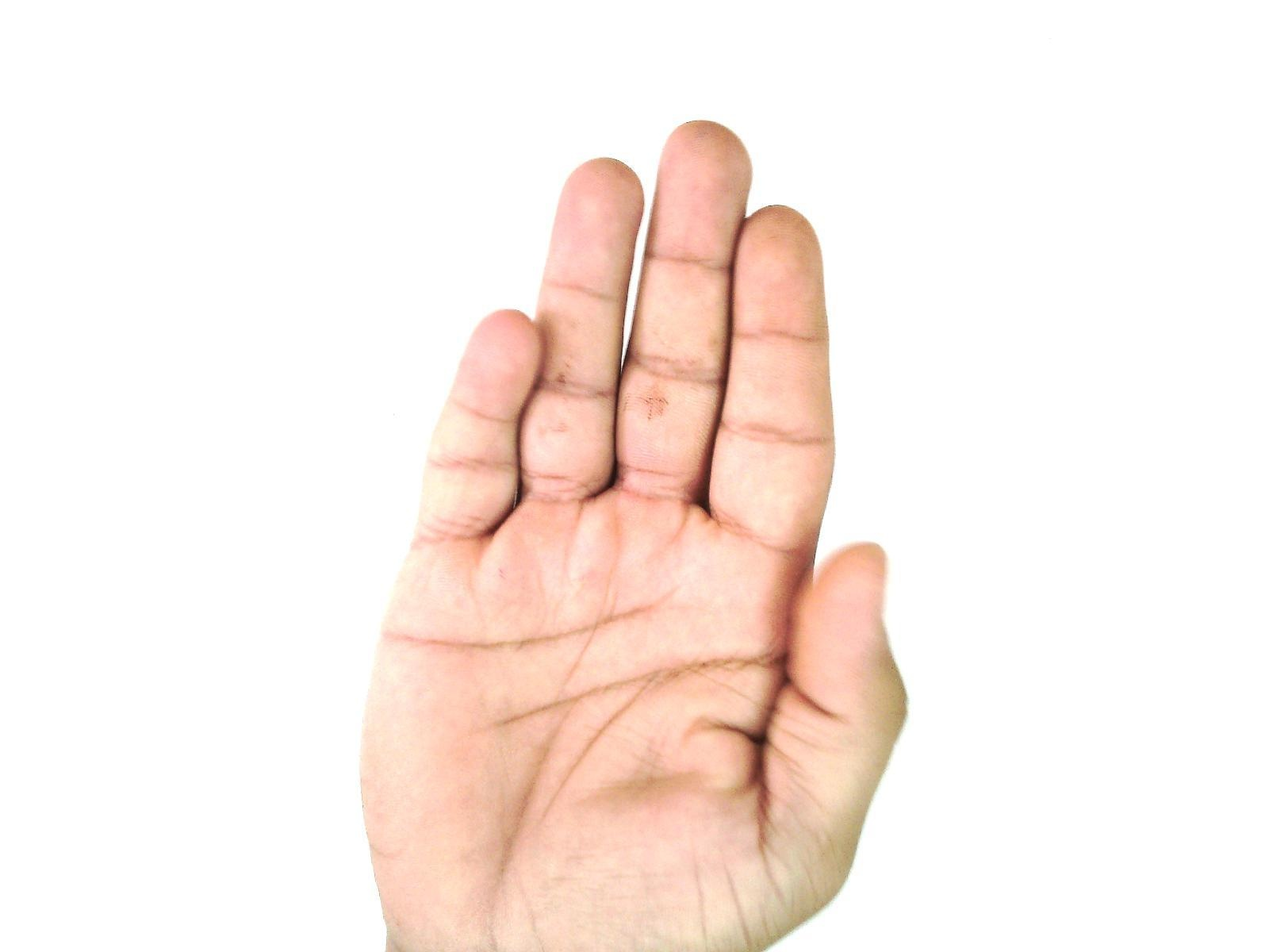open_palm: (356, 119, 911, 951)
